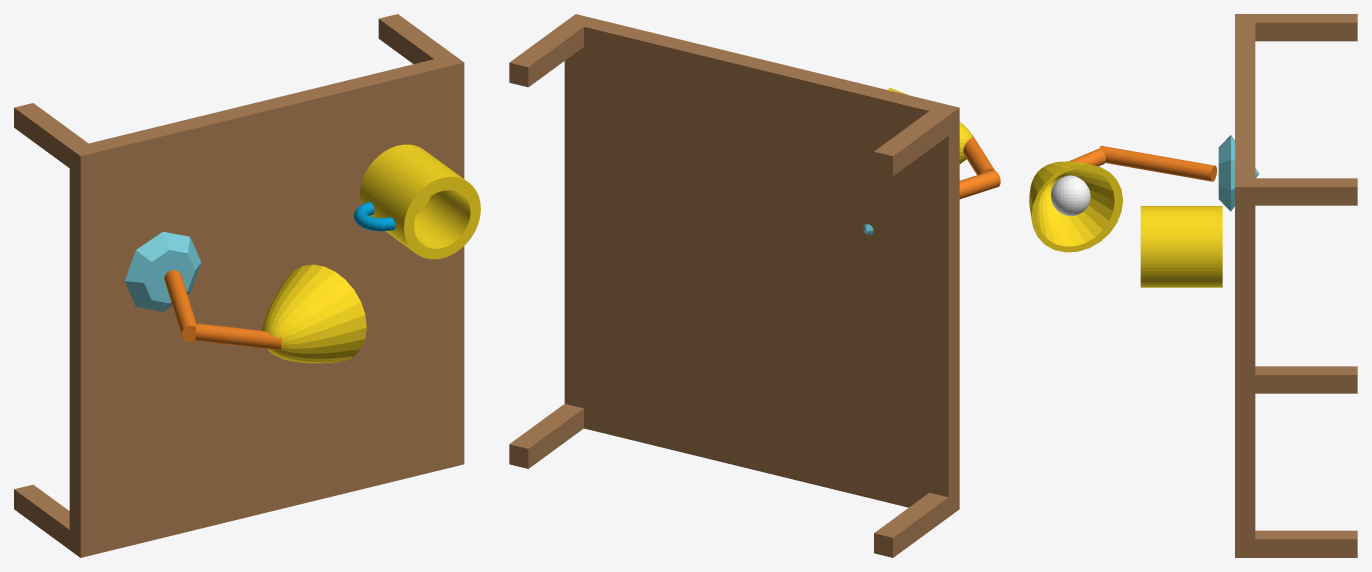
File: tinker.obj
The picture shows the model from 3 angles, left to right: view 1: azimuth 30°, elevation 25°; view 2: azimuth 150°, elevation 25°; view 3: azimuth 270°, elevation 25°; orthographic projection. The views are drawn at different scales.
Visible parts, largest first — view 1: group_0_11107152, group_0_16768282, group_0_7720667, group_0_16089887, group_0_40919; view 2: group_0_11107152, group_0_16089887; view 3: group_0_11107152, group_0_16768282, group_0_16089887, group_0_16448250, group_0_7720667.
Boxes of the visible parts, x1=… form: group_0_11107152: x1=14, y1=14, x2=464, y2=557; group_0_16768282: x1=262, y1=144, x2=480, y2=363; group_0_7720667: x1=124, y1=231, x2=201, y2=311; group_0_16089887: x1=164, y1=270, x2=281, y2=350; group_0_40919: x1=354, y1=202, x2=395, y2=231; group_0_11107152: x1=509, y1=14, x2=959, y2=557; group_0_16089887: x1=959, y1=135, x2=1000, y2=199; group_0_11107152: x1=1235, y1=14, x2=1357, y2=557; group_0_16768282: x1=1029, y1=161, x2=1222, y2=287; group_0_16089887: x1=1069, y1=145, x2=1216, y2=181; group_0_16448250: x1=1050, y1=175, x2=1090, y2=215; group_0_7720667: x1=1218, y1=135, x2=1259, y2=211.
Bounding box in the file's own units: 100 × 100 × 80.25.
